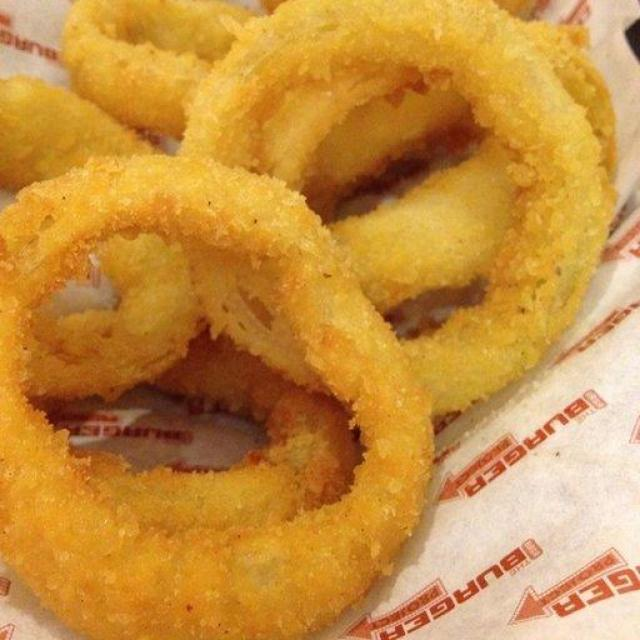food_waste: (10, 10, 625, 621)
